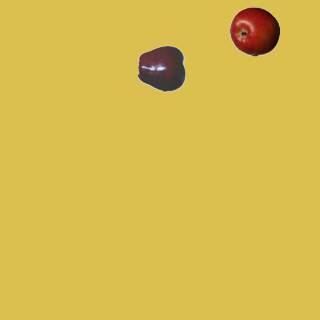Apple Braeburn: (229, 6, 279, 56)
Apple Red Delicious: (137, 43, 187, 93)
